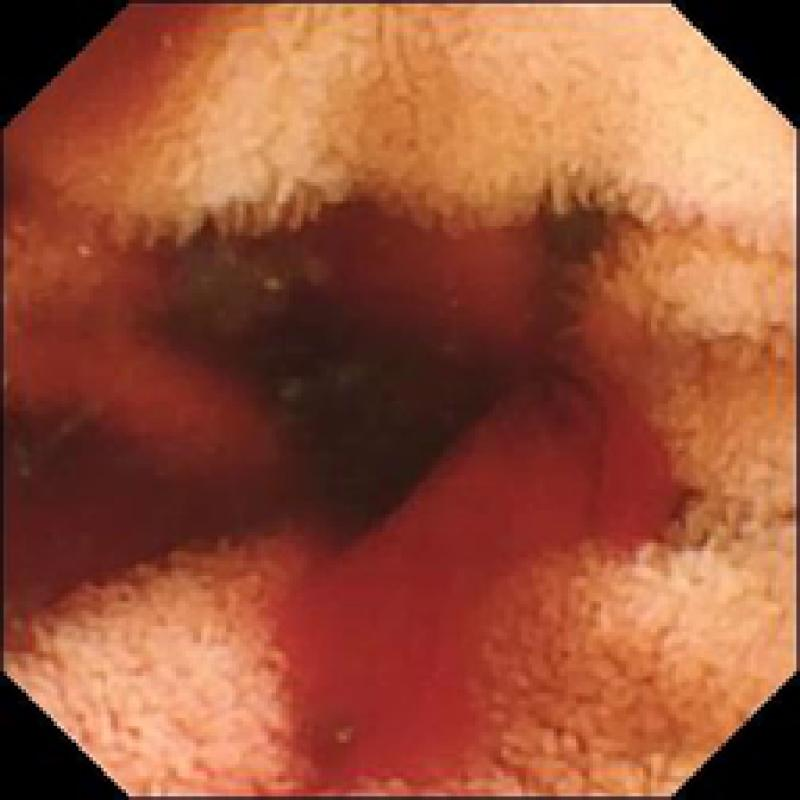bleeding: (296, 389, 672, 800), (0, 261, 250, 450), (354, 225, 575, 346)
